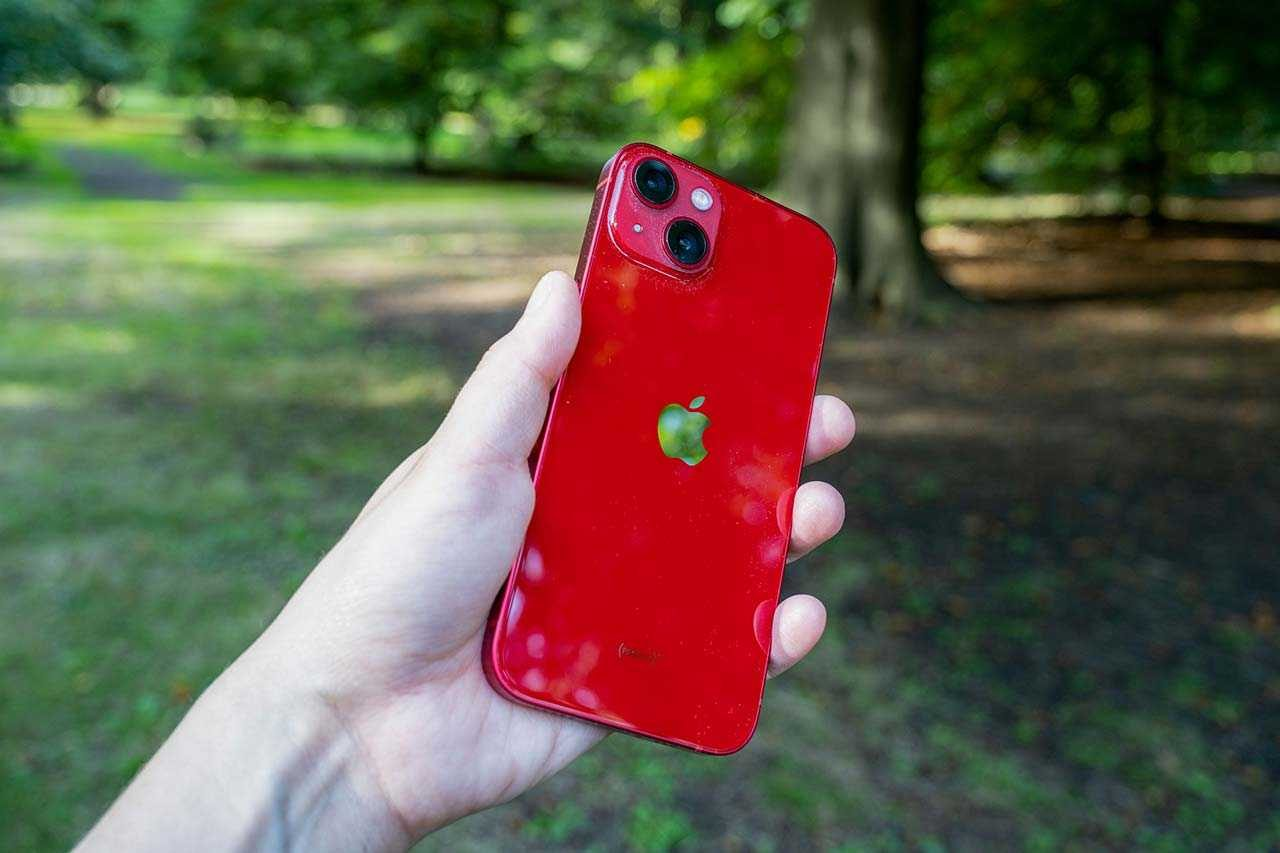-iphone12: (498, 132, 805, 785)
